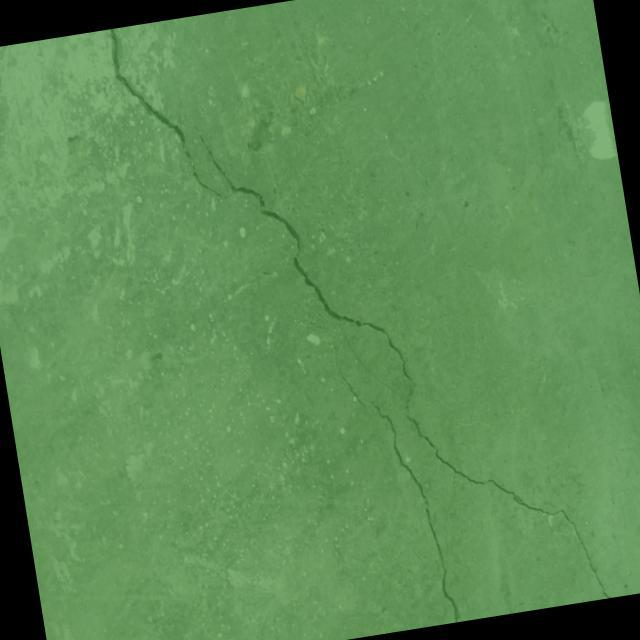crack: (106, 0, 613, 640), (364, 387, 462, 631), (334, 345, 369, 421)
